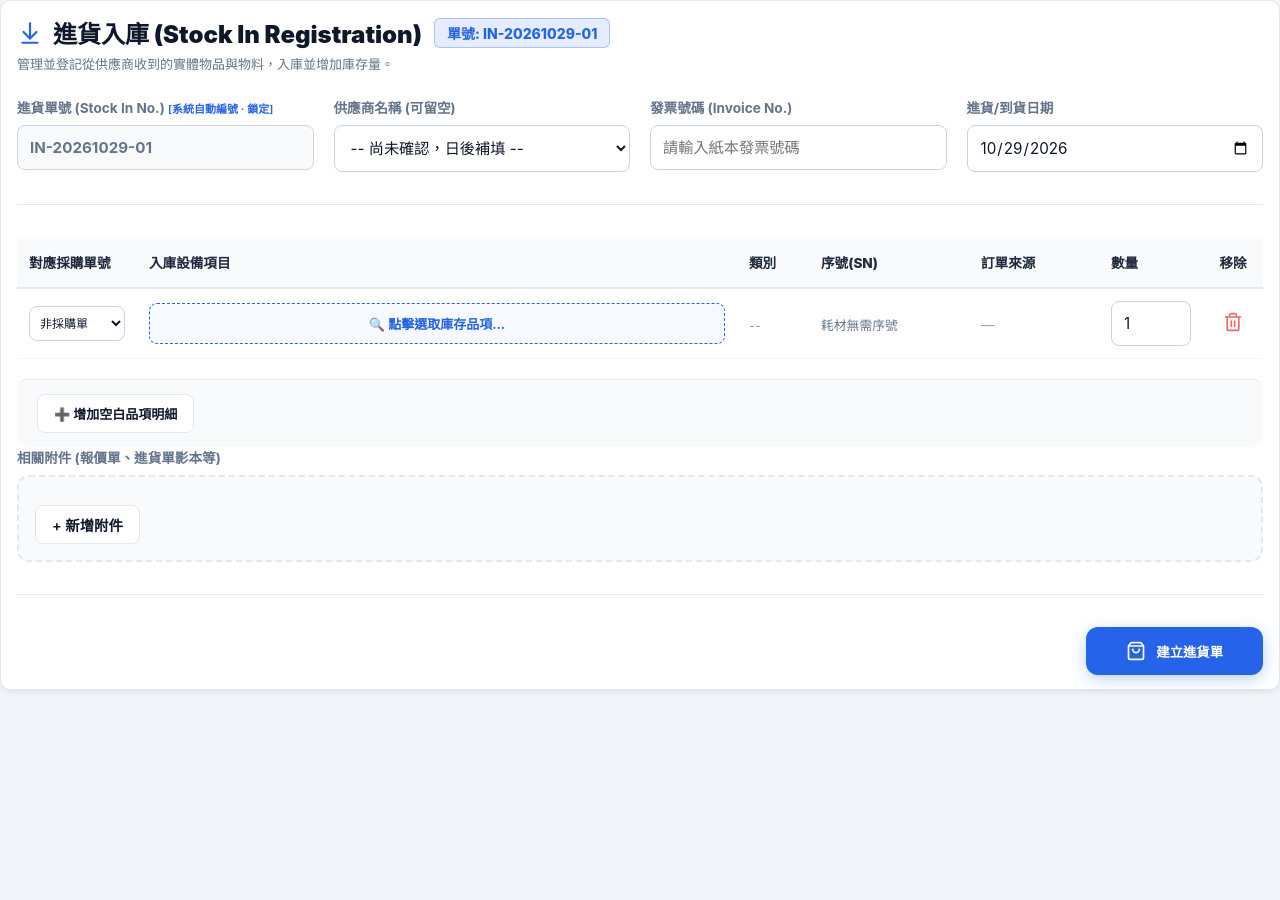
it: 進貨單：快速建檔品項 › 快速新增後，列上看得到類型、廠牌、型號與規格，標籤另起一行
Click the button with test id "open-item-select-btn-1" at (437, 324), box [149,303,725,344]
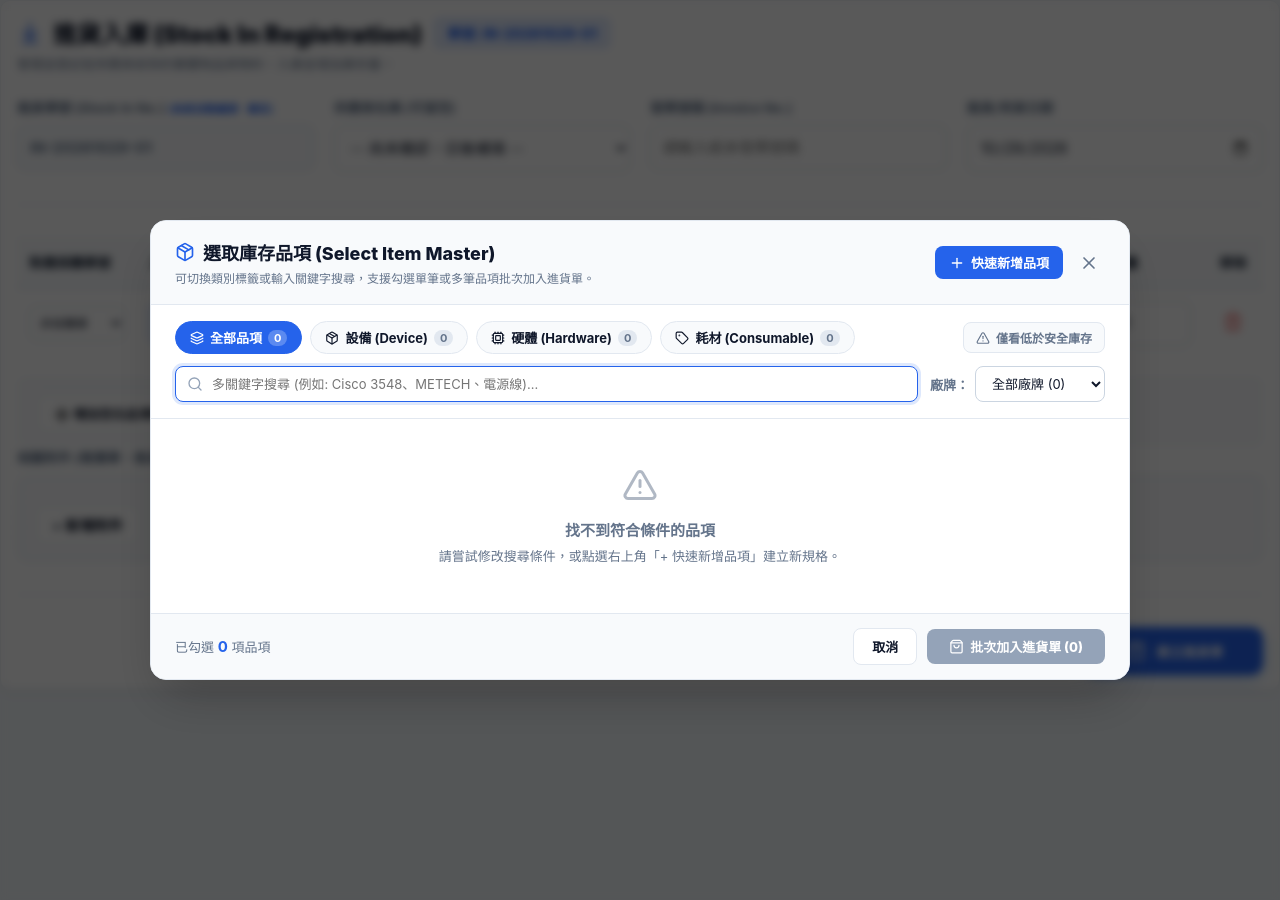
Click the button "快速新增品項" at (999, 262), box [935,246,1063,279]
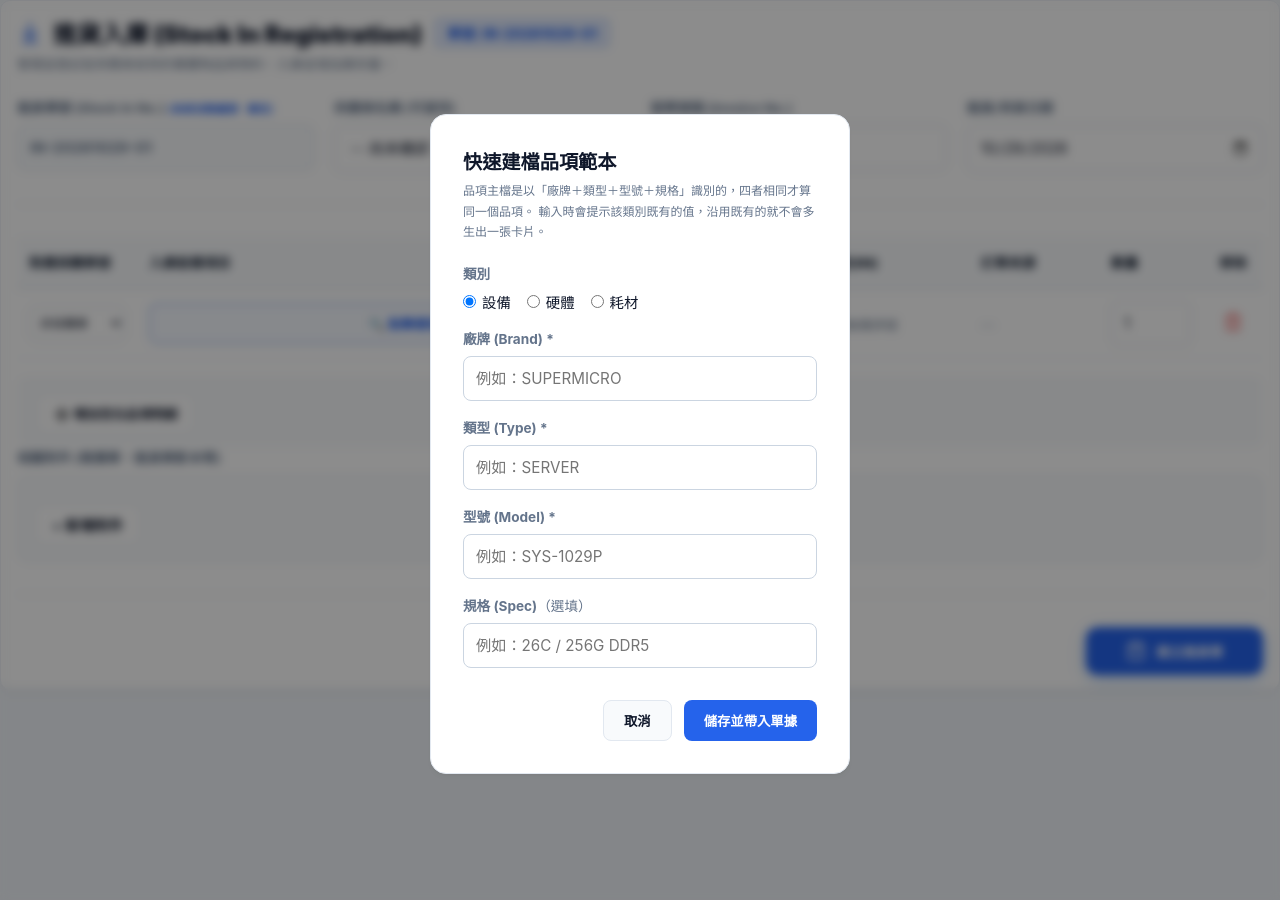
Type "光景資訊" into the field with placeholder "例如：SUPERMICRO" at (640, 378), box [463,356,817,401]
Type "NVMe SSD" into the field with placeholder "例如：SERVER" at (640, 467), box [463,445,817,490]
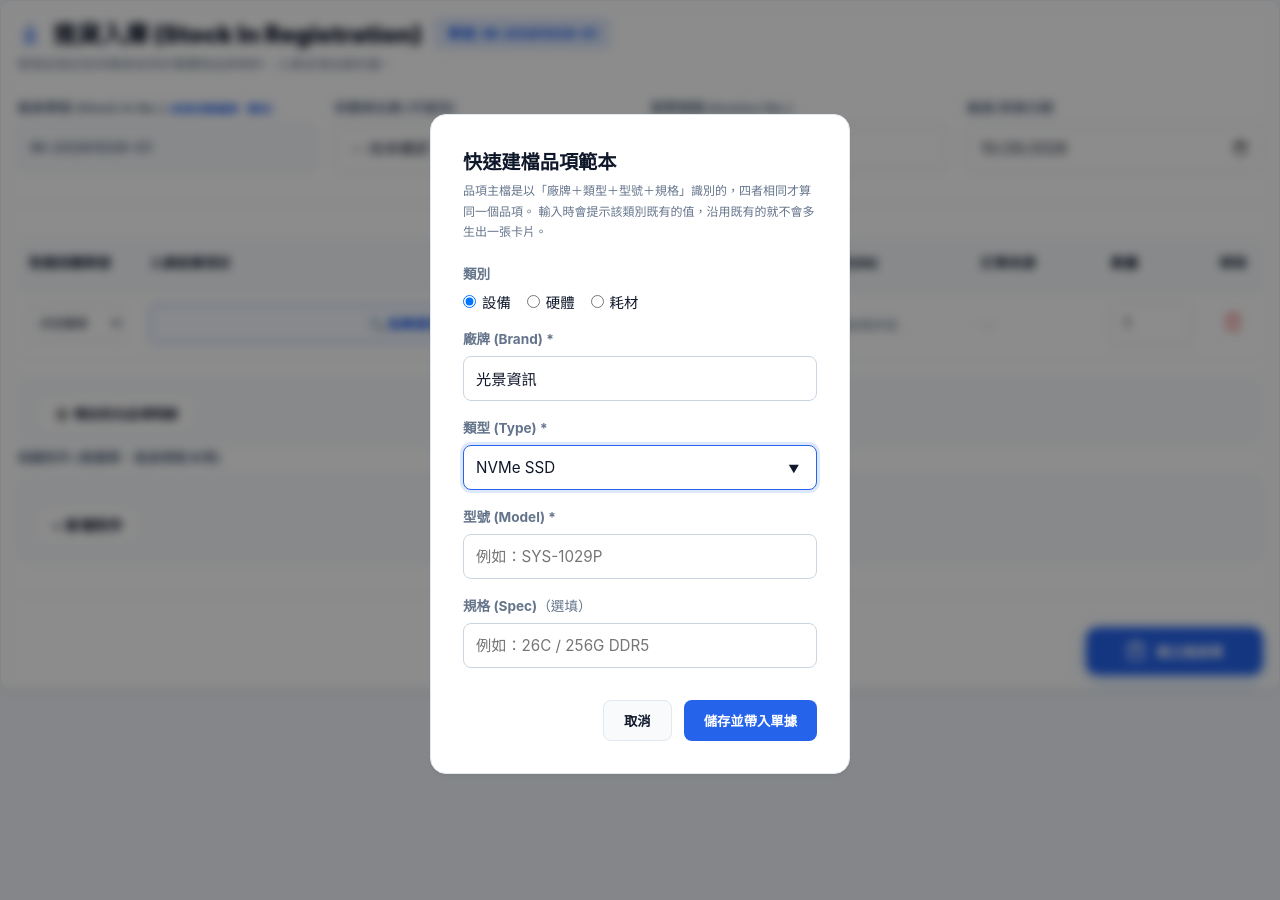
Type "N-29NVMS" into the field with placeholder "例如：SYS-1029P" at (640, 556), box [463,534,817,579]
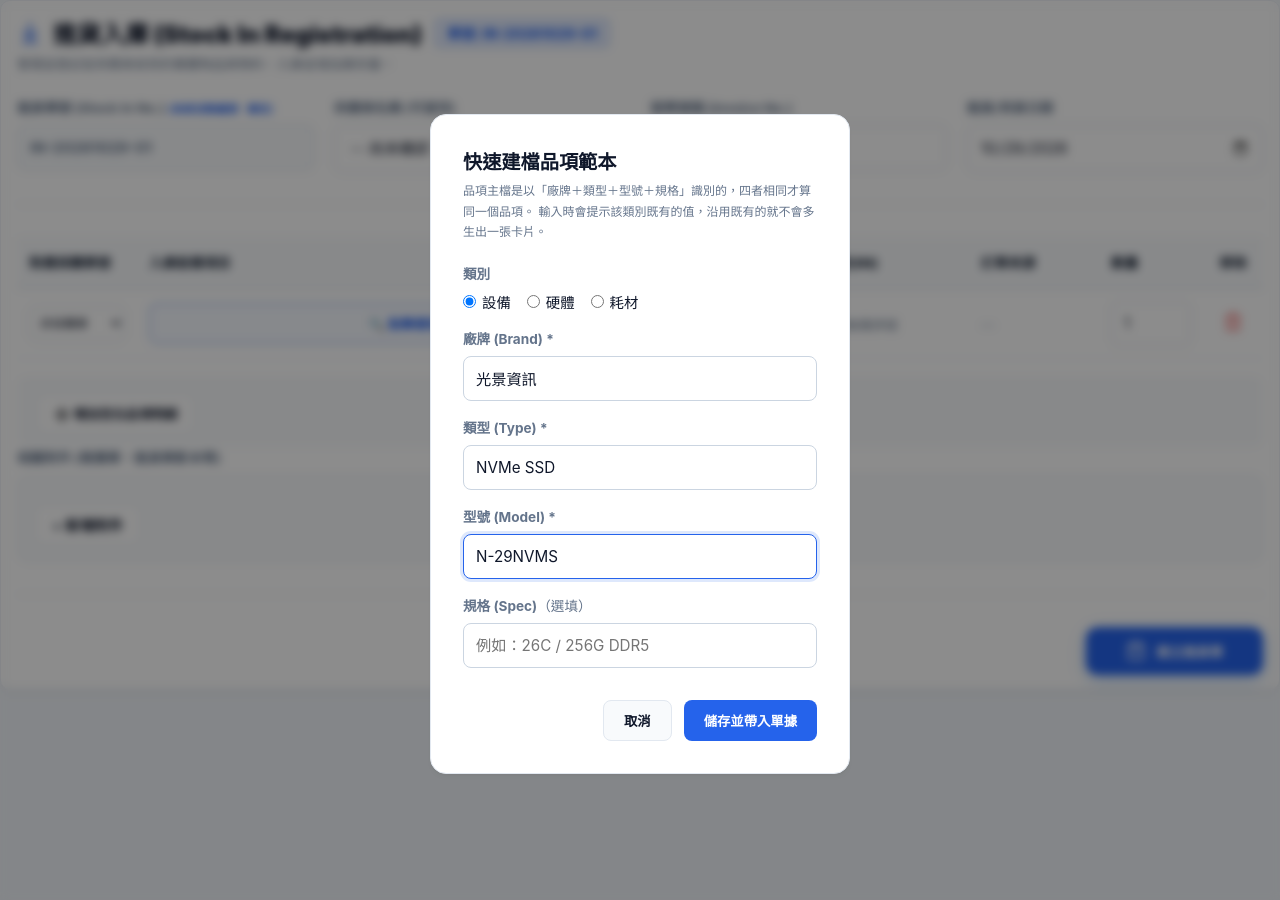
Type "2TB U.2" into the field with placeholder "例如：26C / 256G DDR5" at (640, 645), box [463,623,817,668]
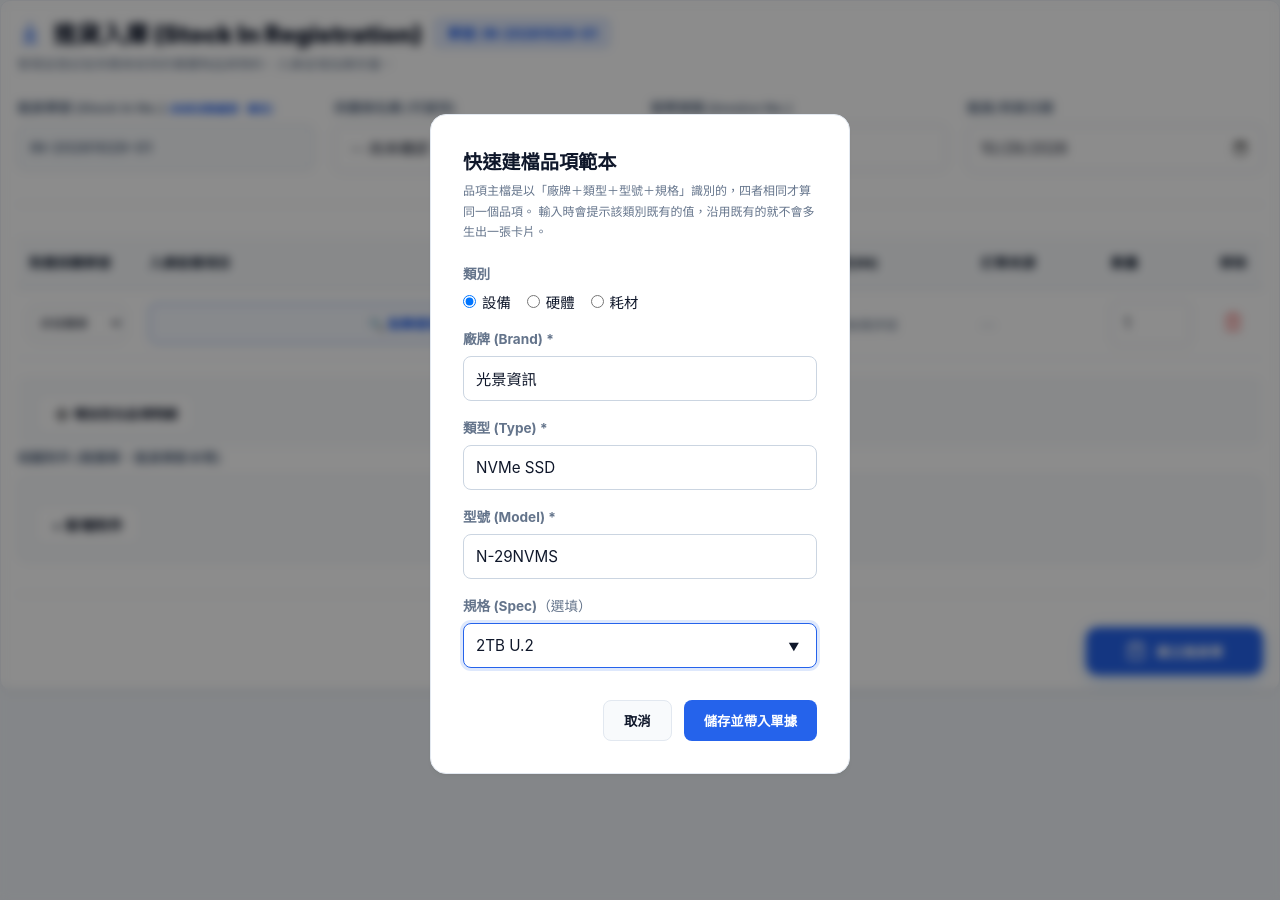
Click the button "儲存並帶入單據" at (750, 720), box [684,700,817,741]
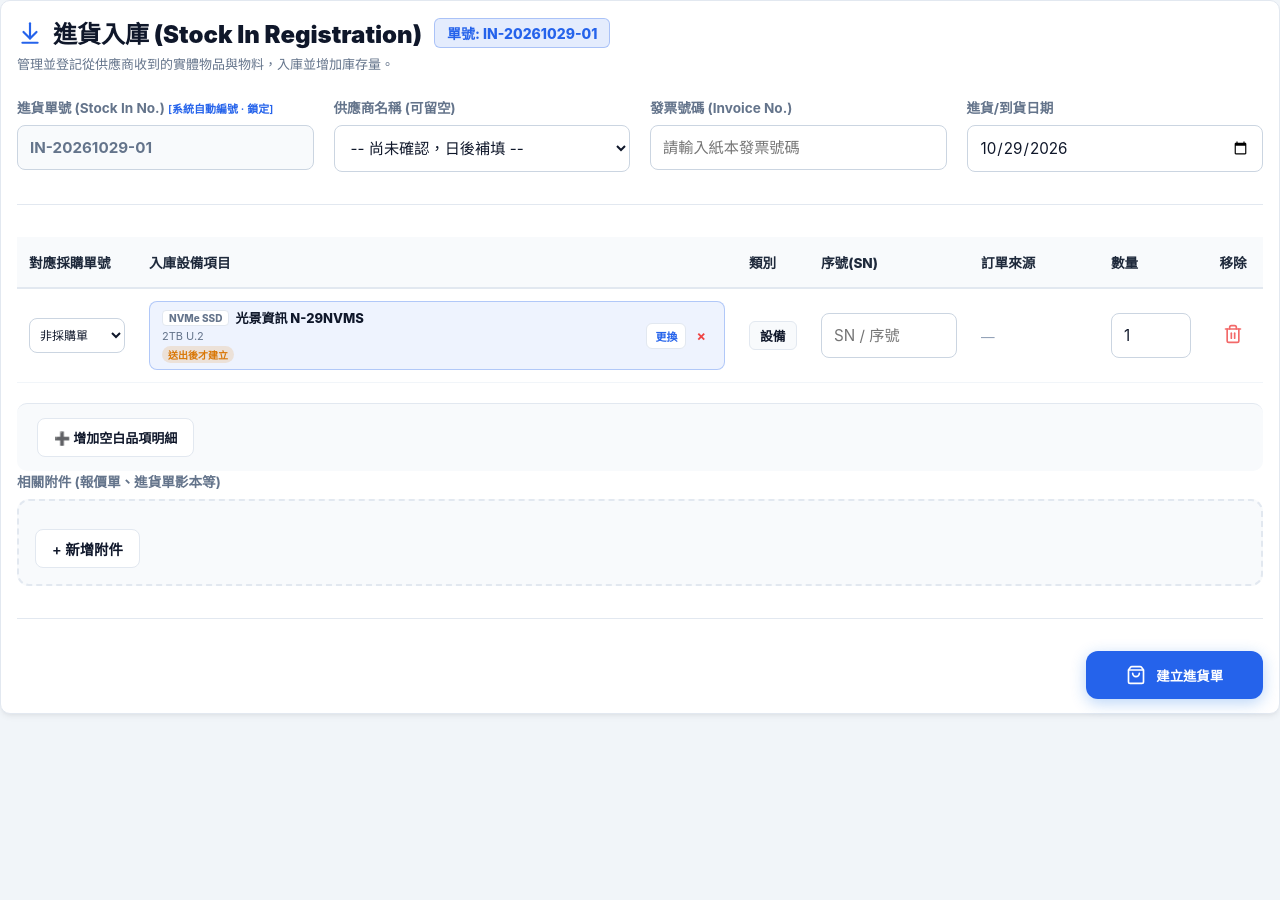
Now the text "2TB U.2" is shown, box [162,329,204,343]
Now the text "送出後才建立" is shown, box [162,346,234,363]
